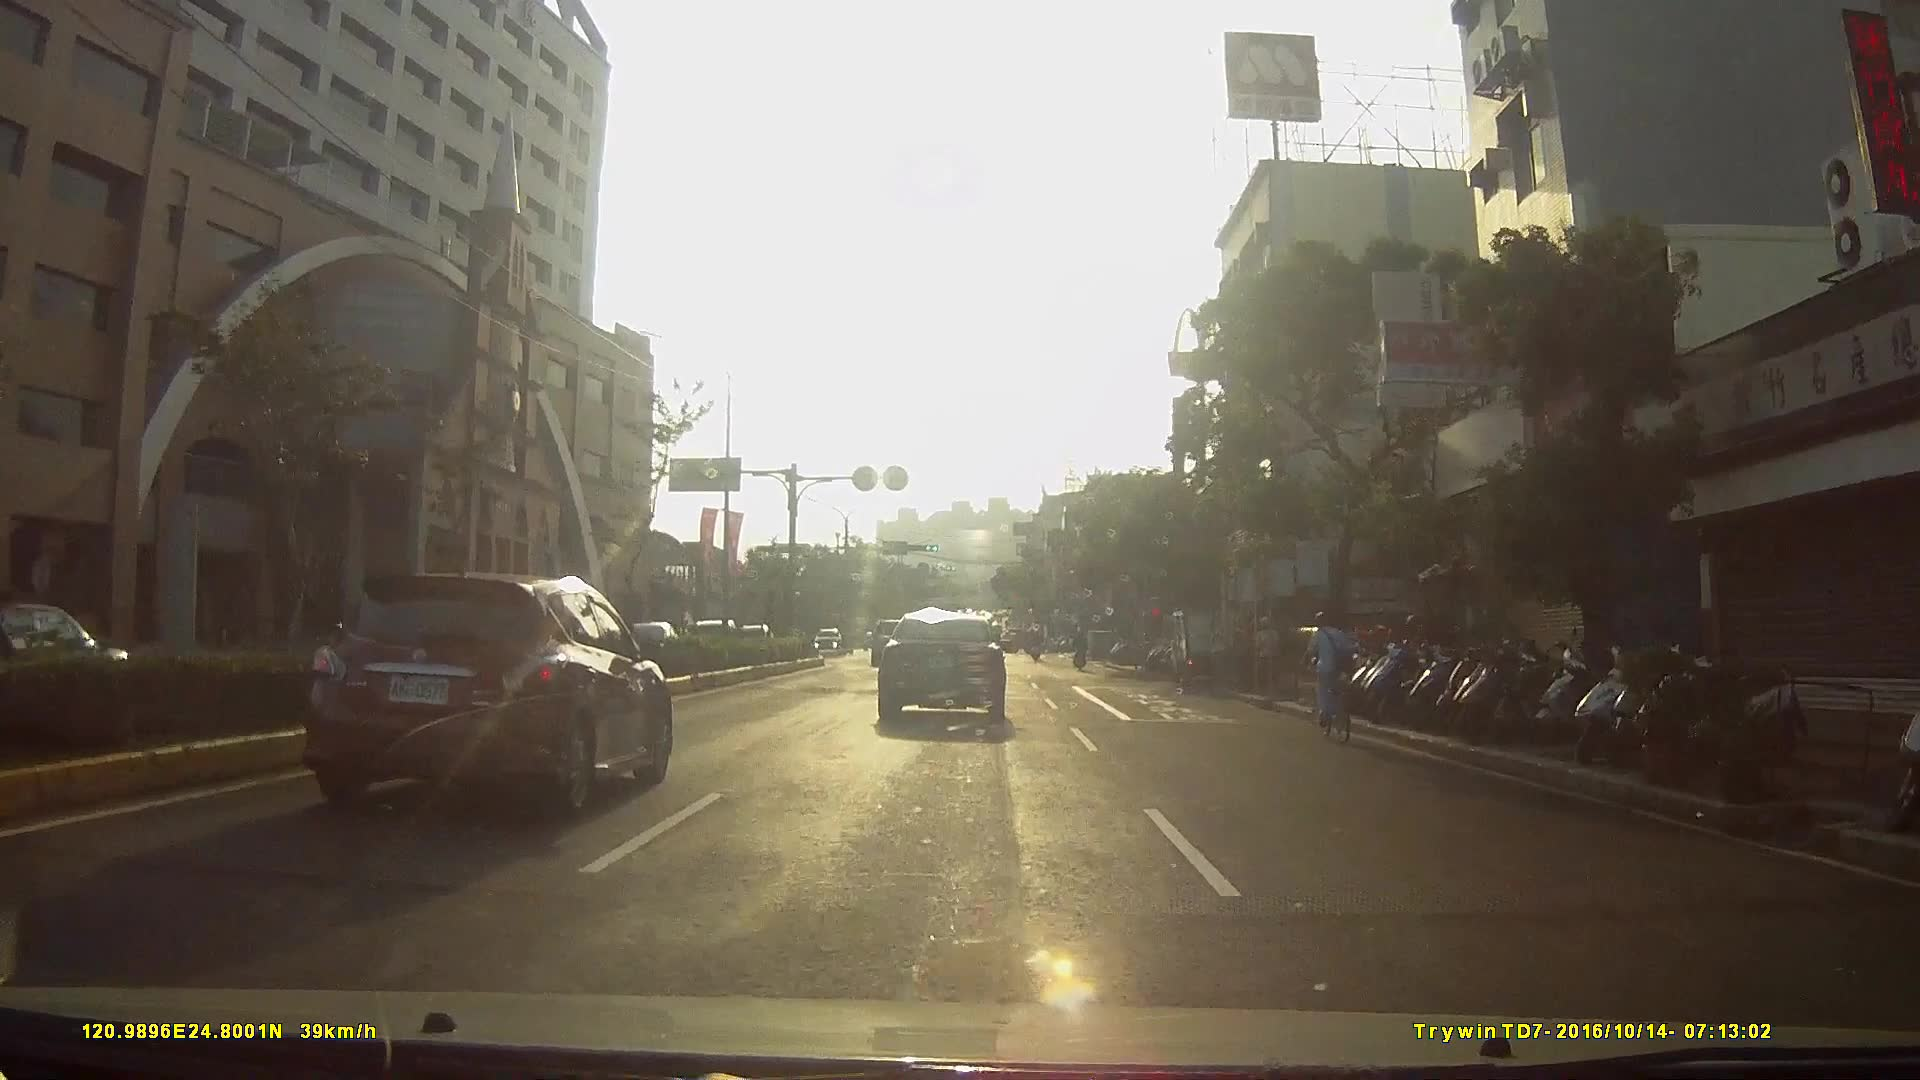pedestrian: (1251, 615, 1284, 700)
rider: (1301, 610, 1363, 744)
vehicle: (295, 565, 684, 820), (871, 608, 1019, 737), (1170, 600, 1253, 685), (763, 607, 822, 662), (801, 620, 851, 659)
